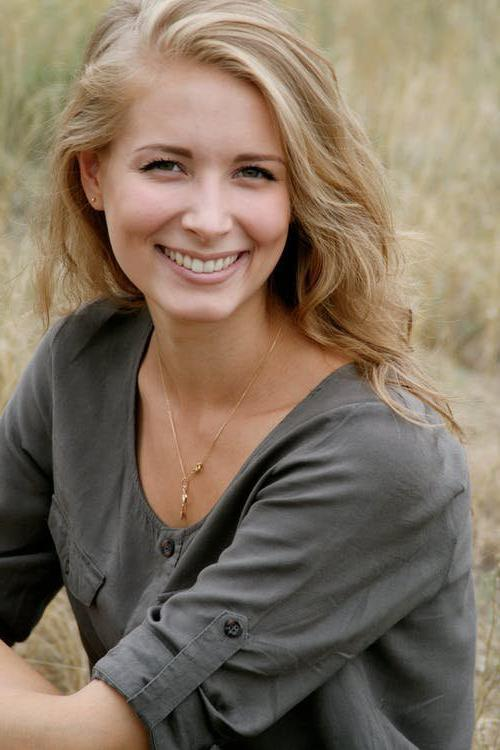Sober: (116, 72, 283, 316)
